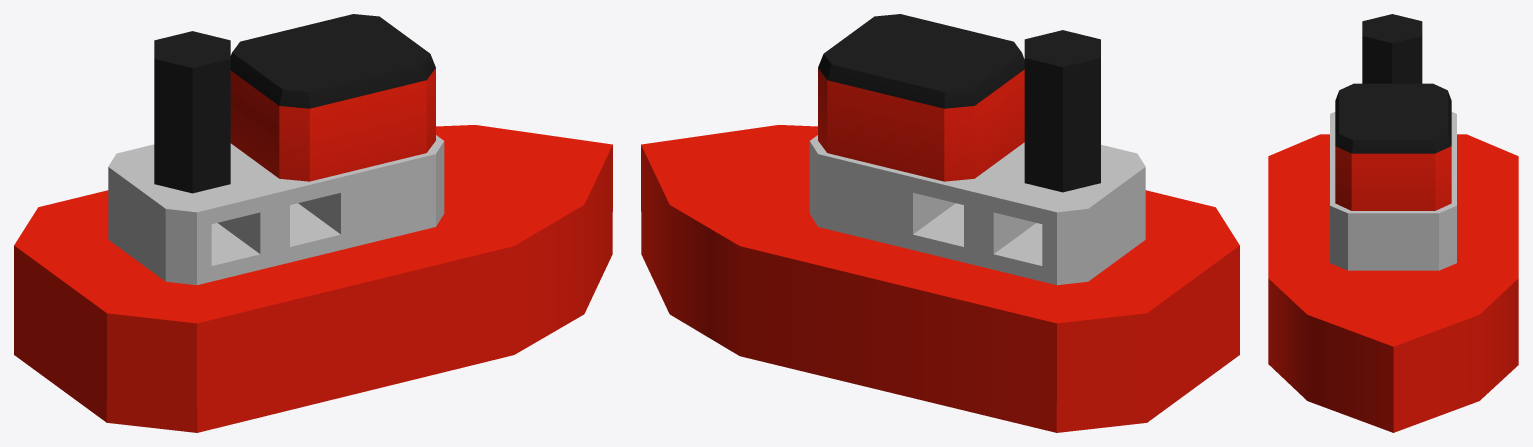
The model's file is Boat_A.FBX.
3 renders of one model, left to right at view 1: azimuth 30°, elevation 25°; view 2: azimuth 150°, elevation 25°; view 3: azimuth 270°, elevation 25°, orthographic. The views are drawn at different scales.
Parts seen in each view (by area): view 1: Boat; view 2: Boat; view 3: Boat.
Part boxes in pixels (x1,y1,x2,y2): Boat: (14,14,612,432); Boat: (641,14,1239,432); Boat: (1268,14,1518,432).
Size of the model in its own units: 119 by 63.46 by 59.25.
